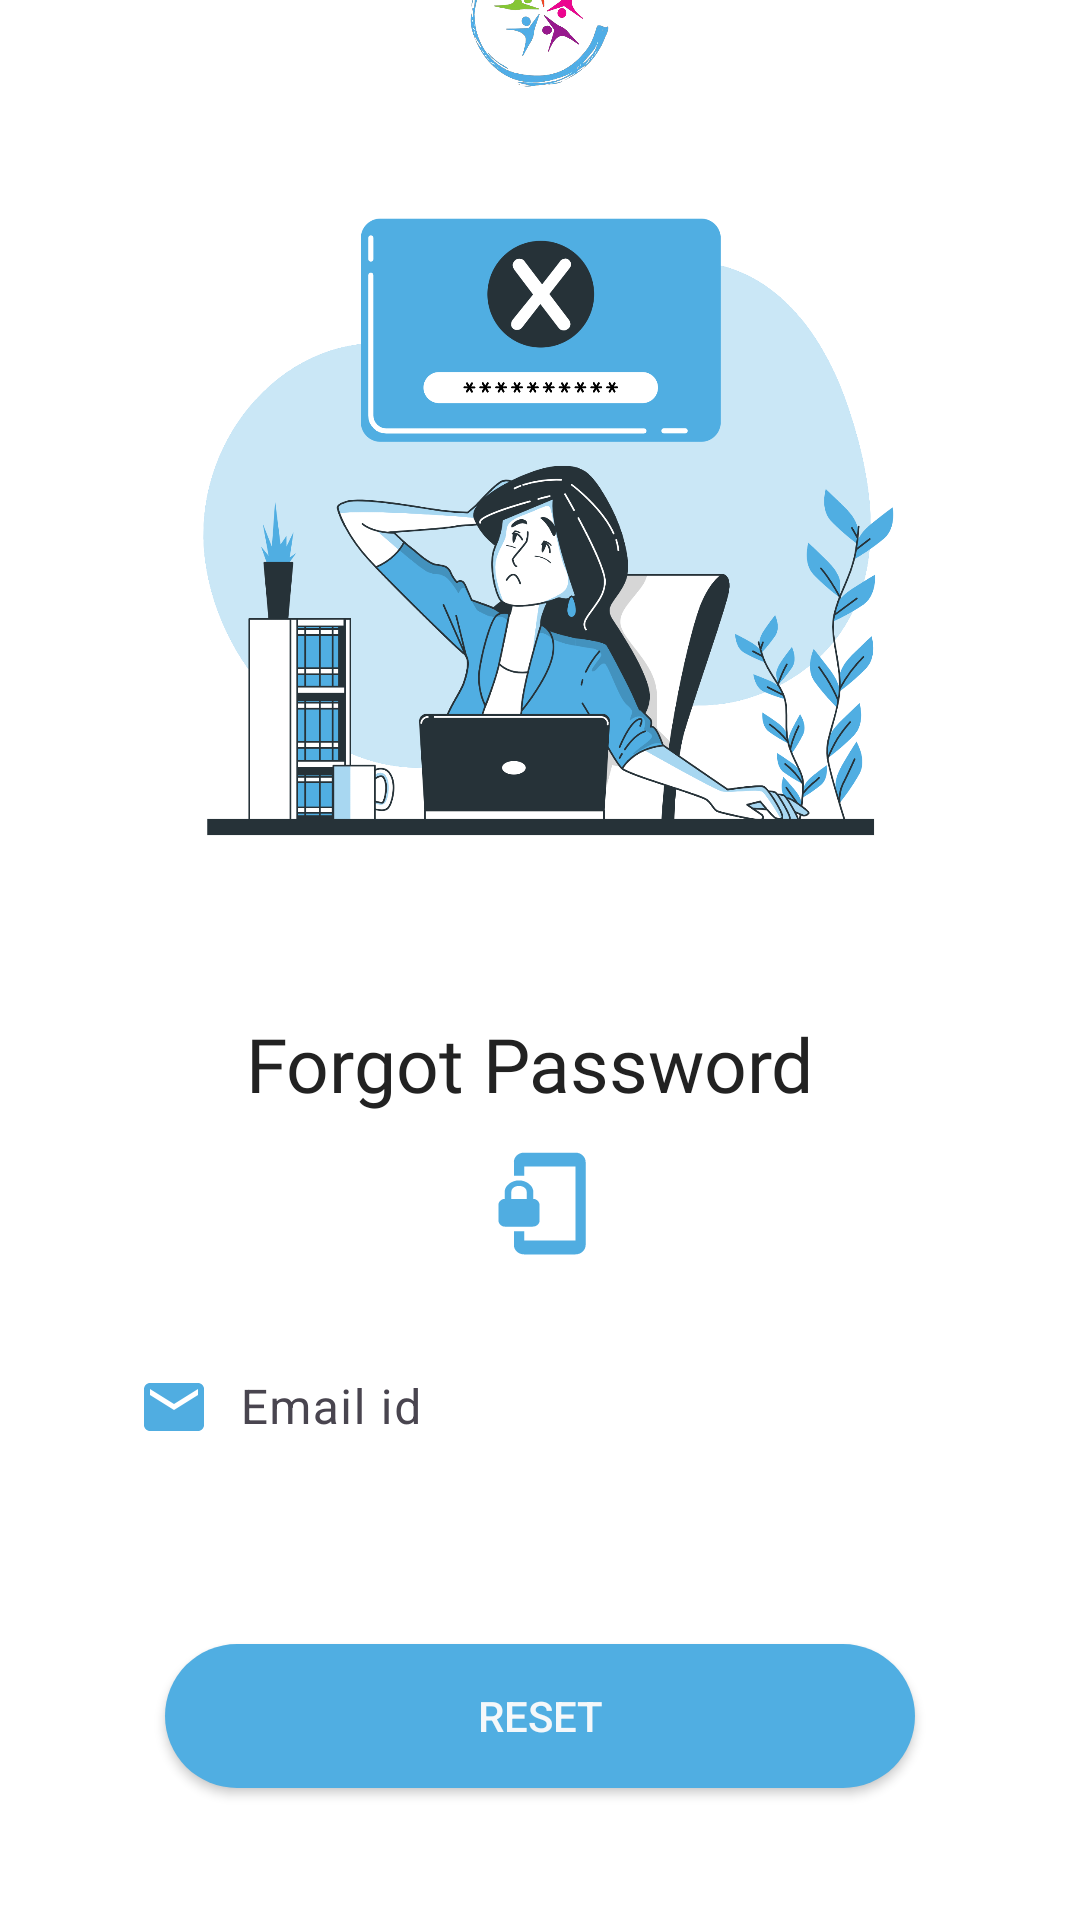

Where icons sit on this 1080 x 1920 app screen, as [left=x1, top=y1, right=x2, bottom=y2]:
vectorlock: [left=498, top=1152, right=586, bottom=1255]
